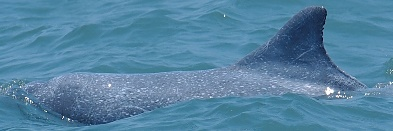fin: (22, 2, 385, 128)
